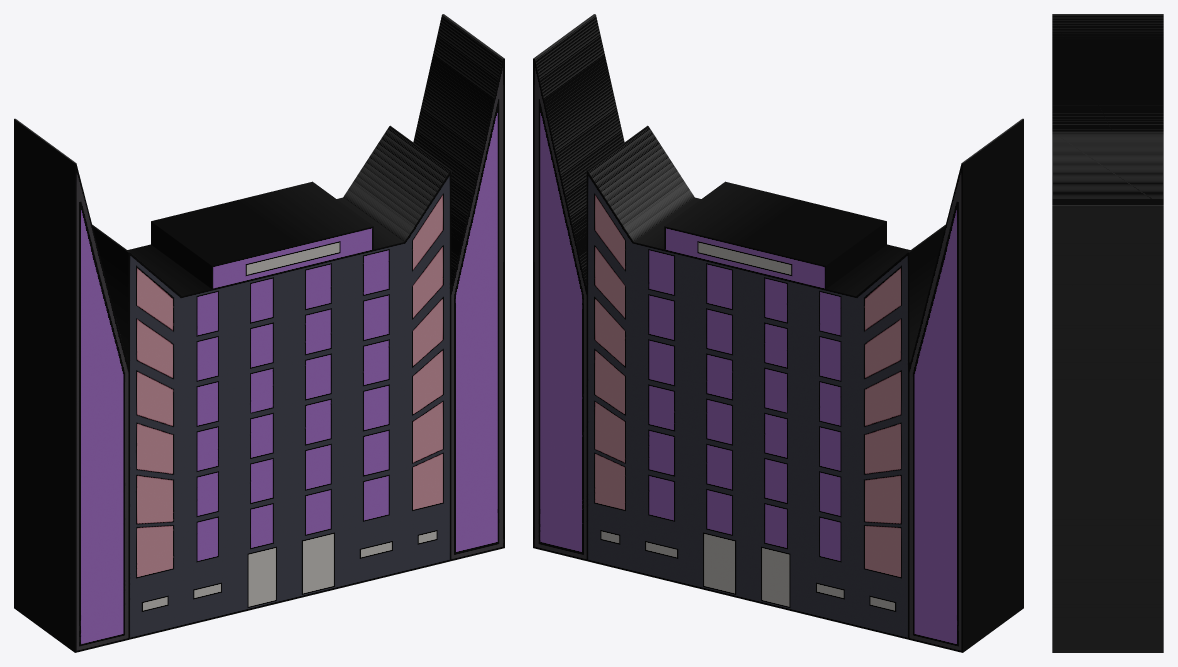
File: building8.fbx
3 views of the same model, side by side, from view 1: azimuth 30°, elevation 25°; view 2: azimuth 150°, elevation 25°; view 3: azimuth 270°, elevation 25° (orthographic). The views are drawn at different scales.
Parts seen in each view (by area): view 1: Building8; view 2: Building8; view 3: Building8.
Boxes of the visible parts, <box> form: Building8: <box>14,14,504,652</box>; Building8: <box>533,14,1023,652</box>; Building8: <box>1052,14,1163,652</box>.
Size of the model in its own units: 497 by 541 by 122.
